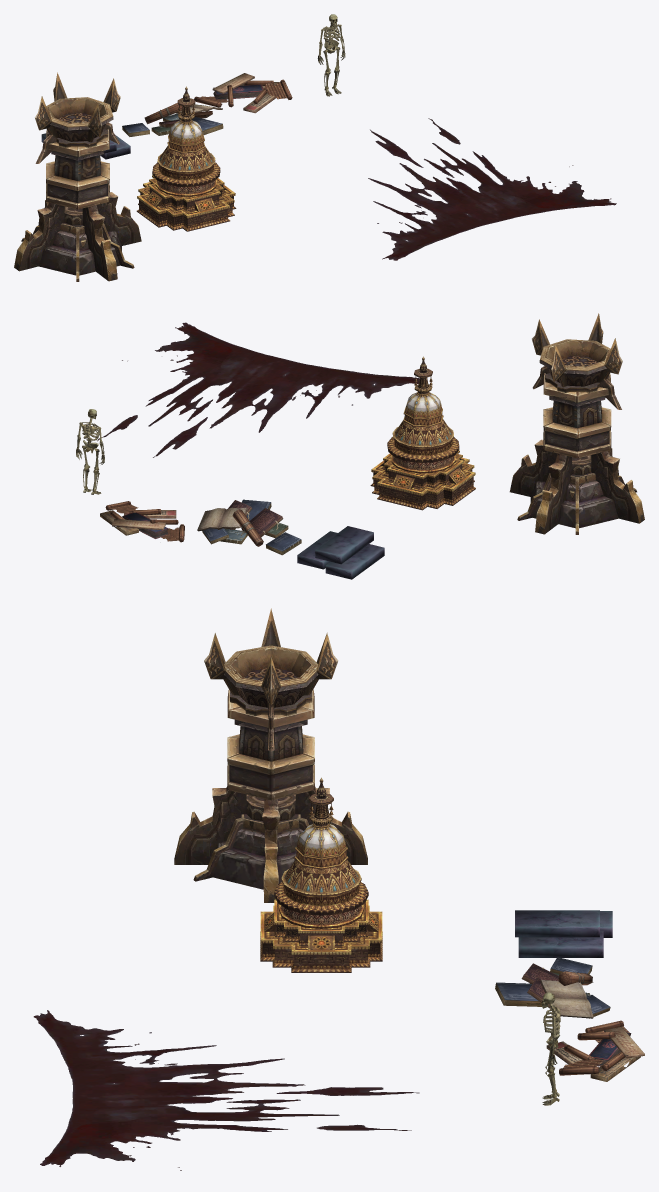
The model's file is 2_BTT_DiBiaoXiaoZaWu_02.FBX.
3 renders of one model, top to bottom at view 1: azimuth 30°, elevation 25°; view 2: azimuth 150°, elevation 25°; view 3: azimuth 270°, elevation 25°, orthographic. The views are drawn at different scales.
Visible parts, largest first — view 1: 2_BTT_FuZaHuoPeng_01, 2_BTT_PengJianXueJi_01, 2_BTT_GongTa_01, 2_BTT_JingShuDui_01, 2_BTT_JingShuDui_02, 2_BTT_GuJia_01, 2_BTT_JingShuDui_03; view 2: 2_BTT_FuZaHuoPeng_01, 2_BTT_PengJianXueJi_01, 2_BTT_GongTa_01, 2_BTT_JingShuDui_02, 2_BTT_JingShuDui_03, 2_BTT_JingShuDui_01, 2_BTT_GuJia_01; view 3: 2_BTT_FuZaHuoPeng_01, 2_BTT_PengJianXueJi_01, 2_BTT_GongTa_01, 2_BTT_JingShuDui_03, 2_BTT_JingShuDui_02, 2_BTT_JingShuDui_01, 2_BTT_GuJia_01.
Boxes of the visible parts, x1,y1,x2,y2 form: 2_BTT_FuZaHuoPeng_01: (14,72,141,281); 2_BTT_PengJianXueJi_01: (368,118,616,260); 2_BTT_GongTa_01: (136,86,236,231); 2_BTT_JingShuDui_01: (194,73,292,113); 2_BTT_JingShuDui_02: (122,103,223,136); 2_BTT_GuJia_01: (317,14,345,96); 2_BTT_JingShuDui_03: (41,133,130,159); 2_BTT_FuZaHuoPeng_01: (509,313,644,534); 2_BTT_PengJianXueJi_01: (97,322,419,457); 2_BTT_GongTa_01: (370,356,475,510); 2_BTT_JingShuDui_02: (197,499,301,555); 2_BTT_JingShuDui_03: (297,526,384,579); 2_BTT_JingShuDui_01: (100,501,184,542); 2_BTT_GuJia_01: (76,409,104,494); 2_BTT_FuZaHuoPeng_01: (174,608,367,902); 2_BTT_PengJianXueJi_01: (33,1010,419,1170); 2_BTT_GongTa_01: (260,777,382,972); 2_BTT_JingShuDui_03: (515,910,612,957); 2_BTT_JingShuDui_02: (495,957,610,1018); 2_BTT_JingShuDui_01: (546,1020,644,1081); 2_BTT_GuJia_01: (541,992,560,1105).
Bounding box in the file's own units: 1221 × 369 × 910.
